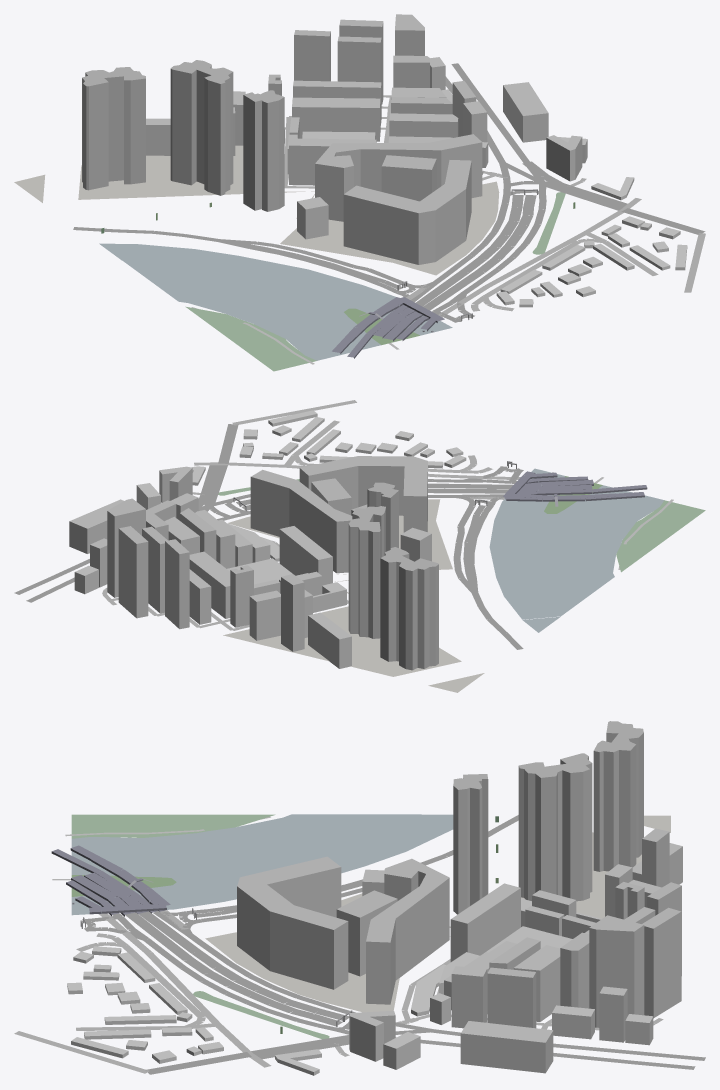
The picture shows the model from 3 angles, top to bottom: view 1: azimuth 30°, elevation 25°; view 2: azimuth 150°, elevation 25°; view 3: azimuth 270°, elevation 25°; orthographic projection. The views are drawn at different scales.
Size of the model in its own units: 523 by 120 by 578.
